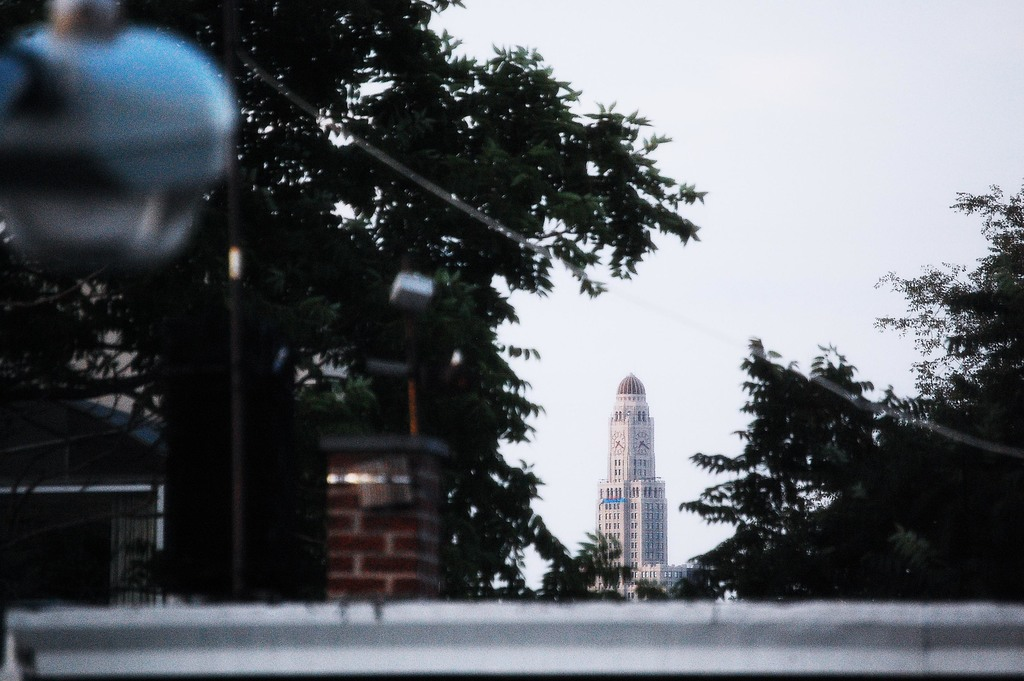Tree: (0, 0, 1023, 602), (868, 188, 1023, 394)
